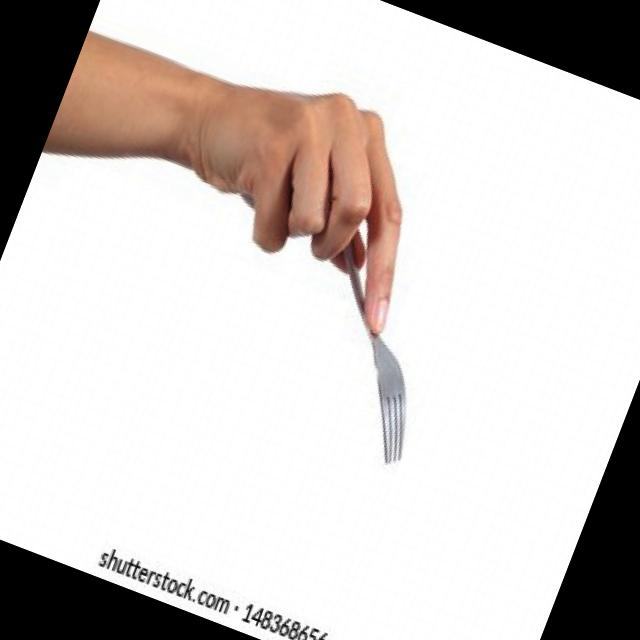fork: (227, 168, 492, 472)
